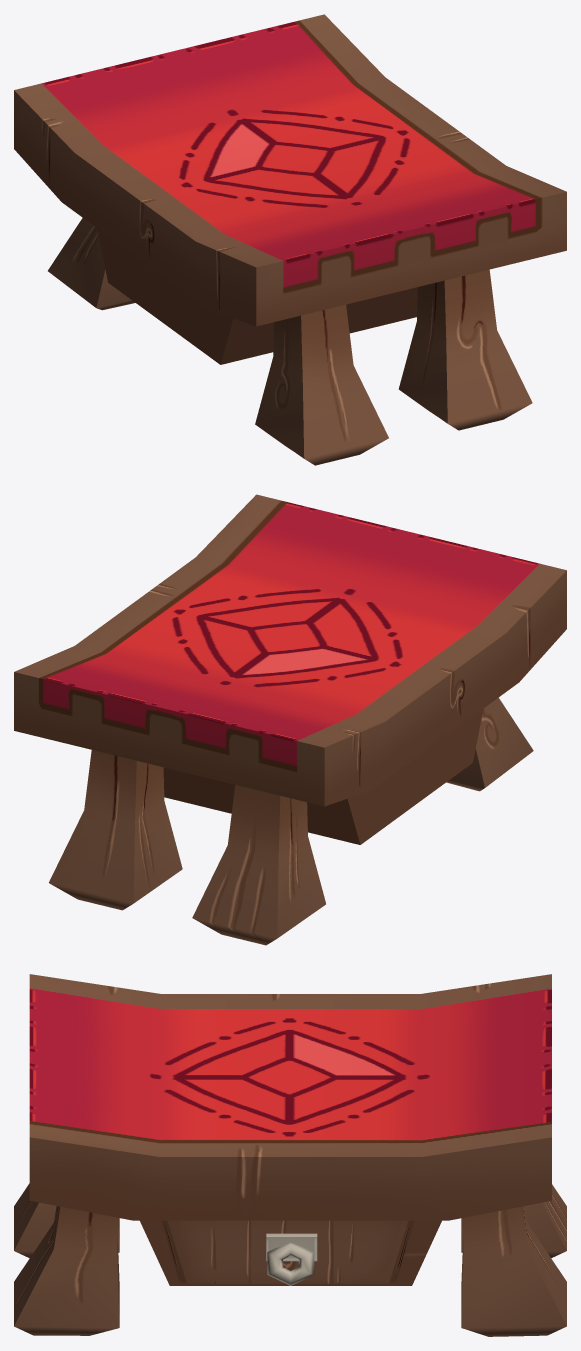
Rendered from PVB export klein kastje.fbx.
3 views of the same model, one above another, from view 1: azimuth 30°, elevation 25°; view 2: azimuth 150°, elevation 25°; view 3: azimuth 270°, elevation 25° (orthographic). The views are drawn at different scales.
Visible parts, largest first — view 1: base, poot_links_voor, poot_links_achter, poot_rechts_achter; view 2: base, poot_rechts_voor, poot_rechts_achter, poot_links_achter; view 3: base, lade_base, poot_rechts_voor, poot_links_voor, poot_links_achter, poot_rechts_achter, handvat_knop, handvat_button.
Part boxes in pixels (x1=…): base: x1=14, y1=14, x2=566, y2=364; poot_links_voor: x1=398, y1=269, x2=532, y2=430; poot_links_achter: x1=255, y1=304, x2=388, y2=465; poot_rechts_achter: x1=48, y1=218, x2=135, y2=310; base: x1=14, y1=494, x2=566, y2=844; poot_rechts_voor: x1=49, y1=750, x2=182, y2=910; poot_rechts_achter: x1=192, y1=785, x2=325, y2=945; poot_links_achter: x1=446, y1=697, x2=533, y2=791; base: x1=29, y1=974, x2=551, y2=1285; lade_base: x1=161, y1=1220, x2=413, y2=1283; poot_rechts_voor: x1=461, y1=1206, x2=566, y2=1336; poot_links_voor: x1=14, y1=1206, x2=119, y2=1335; poot_links_achter: x1=14, y1=1183, x2=119, y2=1258; poot_rechts_achter: x1=461, y1=1184, x2=566, y2=1258; handvat_knop: x1=267, y1=1242, x2=314, y2=1285; handvat_button: x1=266, y1=1233, x2=317, y2=1261.
Size of the model in its own units: 1.19 by 0.7797 by 1.69.
1 material, 1 textured.
